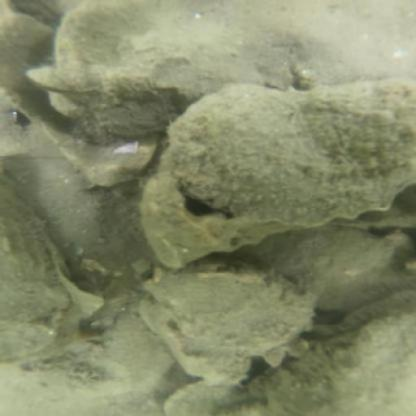Oyster-Closed: (160, 82, 415, 227), (24, 3, 273, 141), (147, 267, 314, 371), (255, 310, 414, 415), (17, 310, 161, 400), (4, 172, 66, 363)
